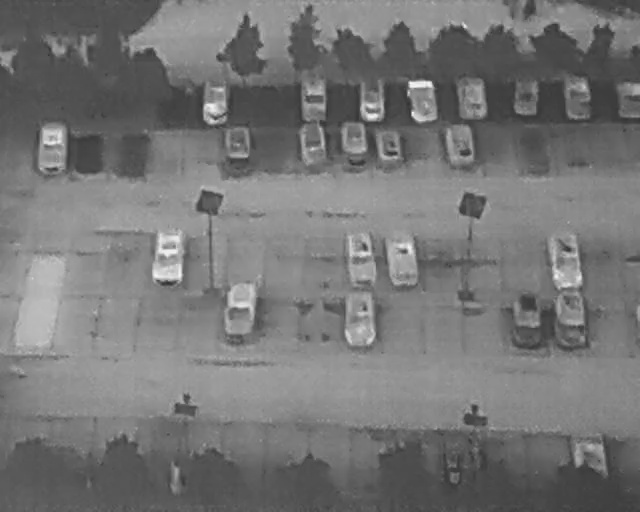Car: (546, 228, 586, 292), (552, 285, 589, 349), (382, 227, 420, 288), (220, 278, 258, 338), (149, 228, 186, 288), (343, 228, 378, 288), (344, 286, 377, 348), (509, 291, 542, 350), (36, 120, 70, 177), (441, 120, 478, 170), (405, 76, 441, 125), (561, 73, 595, 123), (453, 72, 487, 120), (296, 119, 329, 168), (199, 77, 230, 129), (338, 118, 370, 168), (510, 73, 543, 119), (373, 122, 405, 167), (300, 71, 328, 121), (358, 77, 386, 123), (222, 122, 251, 165), (613, 77, 639, 121)
